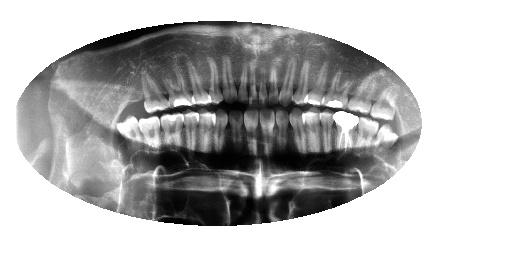i10decay: (268, 60, 279, 107)
i11healthy: (279, 55, 297, 106)
i12healthy: (292, 57, 311, 106)
i13healthy: (304, 61, 333, 106)
i14healthy: (320, 68, 352, 110)
i15healthy: (345, 66, 381, 114)
i16healthy: (370, 78, 401, 122)
i1loss: (120, 71, 145, 114)
i2healthy: (138, 67, 171, 114)
i3healthy: (166, 67, 193, 107)
i5healthy: (205, 55, 225, 106)
i6decay: (219, 52, 239, 109)
i7healthy: (238, 63, 247, 106)
i8healthy: (246, 62, 258, 106)
i9decay: (258, 61, 270, 108)
ihealthy: (188, 58, 213, 107)
u10healthy: (276, 107, 290, 160)
u11healthy: (289, 107, 305, 159)
u12healthy: (302, 106, 321, 157)
u13healthy: (320, 107, 335, 158)
u14healthy: (332, 110, 359, 157)
u15healthy: (357, 116, 380, 154)
u16healthy: (376, 120, 400, 152)
u1healthy: (114, 114, 142, 146)
u2healthy: (137, 114, 164, 150)
u3healthy: (159, 112, 185, 151)
u4healthy: (182, 109, 199, 153)
u5healthy: (197, 108, 217, 155)
u6healthy: (212, 110, 229, 154)
u7decay: (229, 108, 244, 155)
u8decay: (258, 108, 275, 159)
u8healthy: (244, 108, 259, 159)
